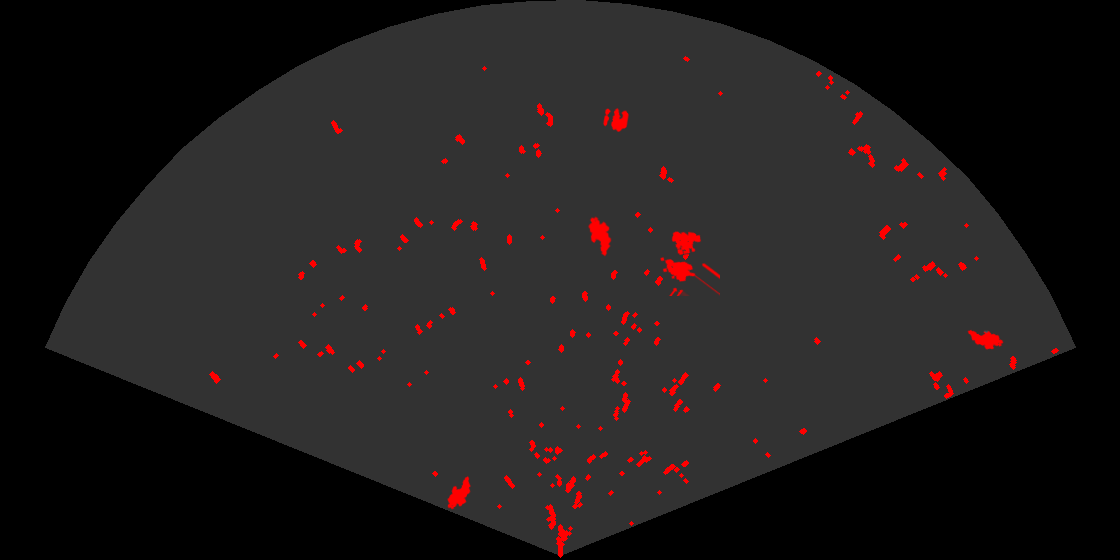AUV: (586, 215, 613, 258), (446, 474, 472, 511), (966, 328, 1005, 351)
ball: (602, 106, 630, 133)
cage: (659, 230, 720, 296)
